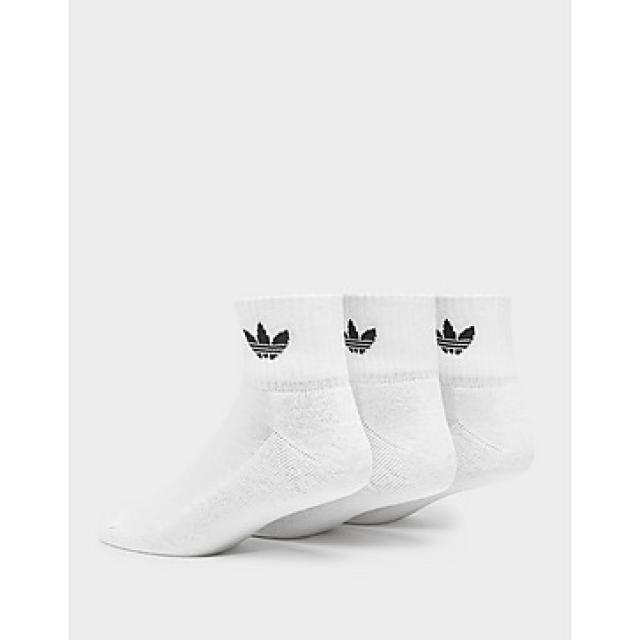sock: (97, 293, 372, 557)
